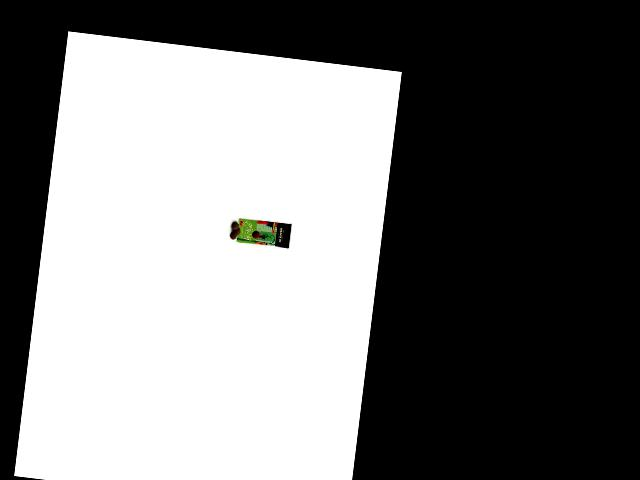chocolate: (234, 214, 294, 254)
